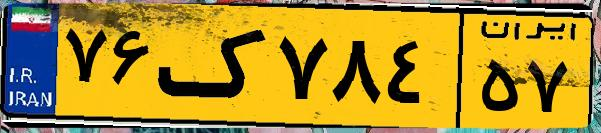4: (385, 28, 445, 110)
5: (475, 38, 525, 113)
6: (110, 28, 158, 98)
7: (270, 28, 330, 110), (57, 26, 110, 100), (525, 38, 570, 115)
8: (330, 28, 385, 110)
ک: (158, 12, 270, 120)
